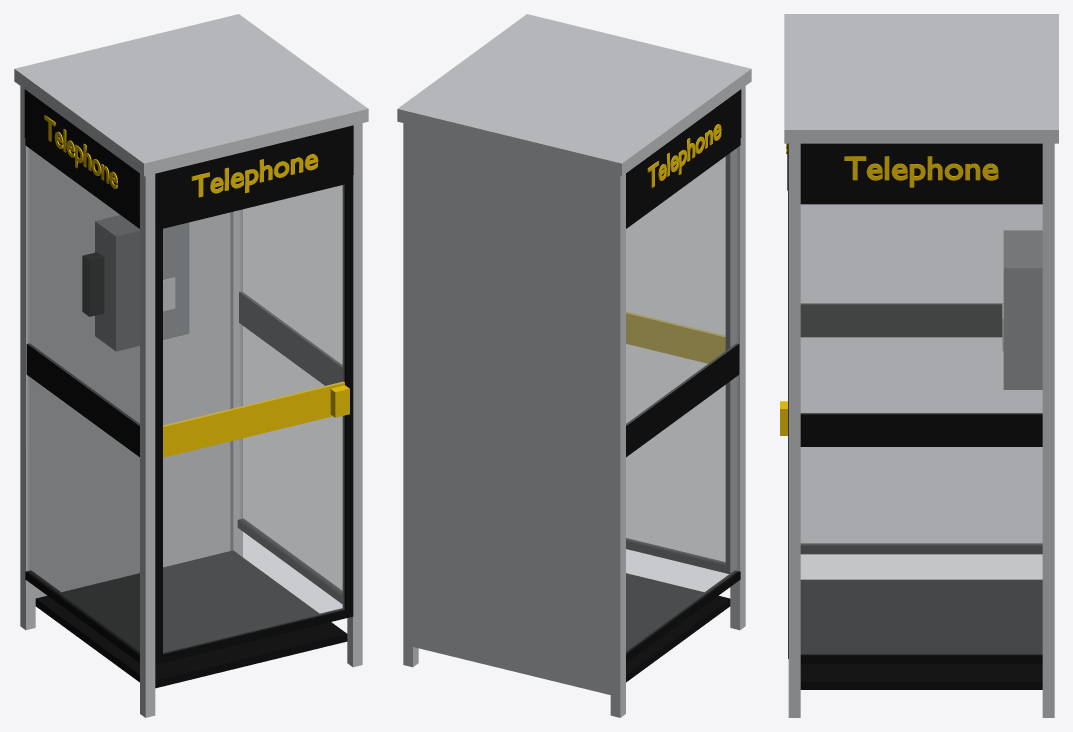
File: kx100-kiosk.glb
3 views of the same model, side by side, from view 1: azimuth 30°, elevation 25°; view 2: azimuth 150°, elevation 25°; view 3: azimuth 270°, elevation 25° (orthographic). The views are drawn at different scales.
Visible parts, largest first — view 1: floor; view 2: floor; view 3: floor.
Part boxes in pixels (bbox=[...]): floor: bbox=[14, 14, 368, 717]; floor: bbox=[397, 14, 751, 717]; floor: bbox=[780, 14, 1058, 717].
Bounding box in the file's own units: 0.92 × 2.18 × 0.9345.
